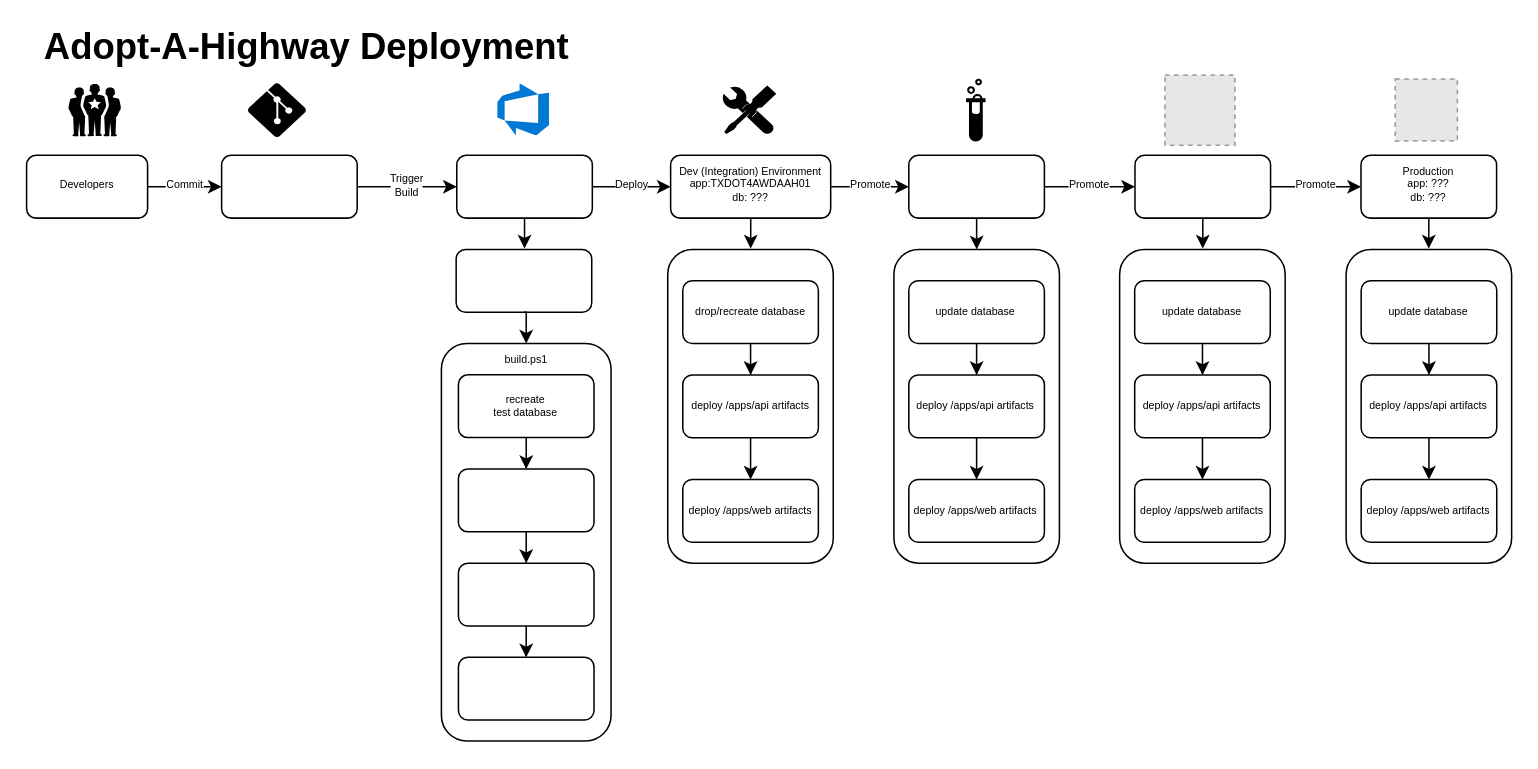
This 1538x769 diagram has some shape labels left out. Grey dashed boxes stand in for pictures. Each missing label, with the centre of its shape:
Automation Server: point (523, 186)
confirm dependencies: point (523, 280)
create deployment artifacts: point (525, 688)
npm install, build, lint, test /apps/api: point (525, 500)
npm install, build, lint, test /apps/web: point (525, 594)
Pre-Prod (Staging) app: ??? db: ???: point (1202, 186)
QA Environment app:??? db: ???: point (975, 186)
Source Code Management (SCM): point (288, 186)
